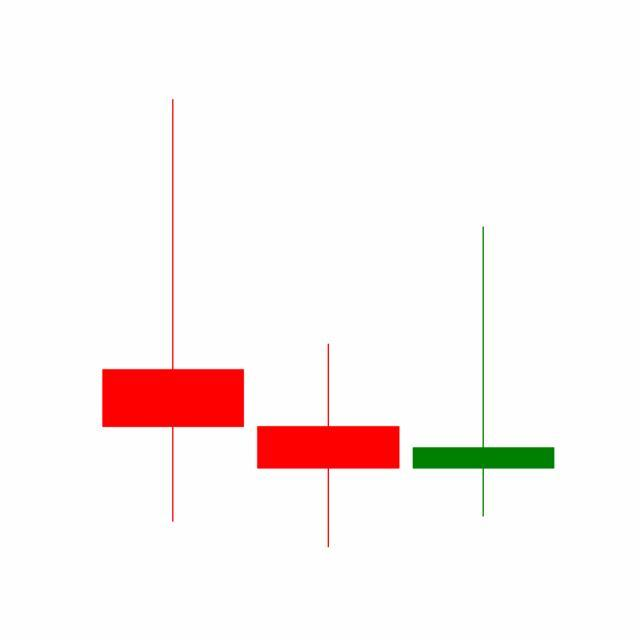Spinning Top: (406, 223, 562, 521)
